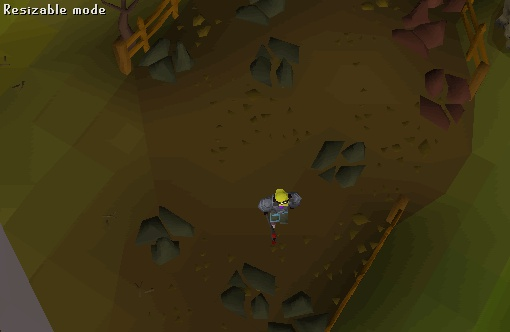coal: (305, 131, 375, 195), (129, 204, 199, 268), (130, 21, 200, 85), (238, 28, 308, 92)
iron: (405, 58, 489, 141)
